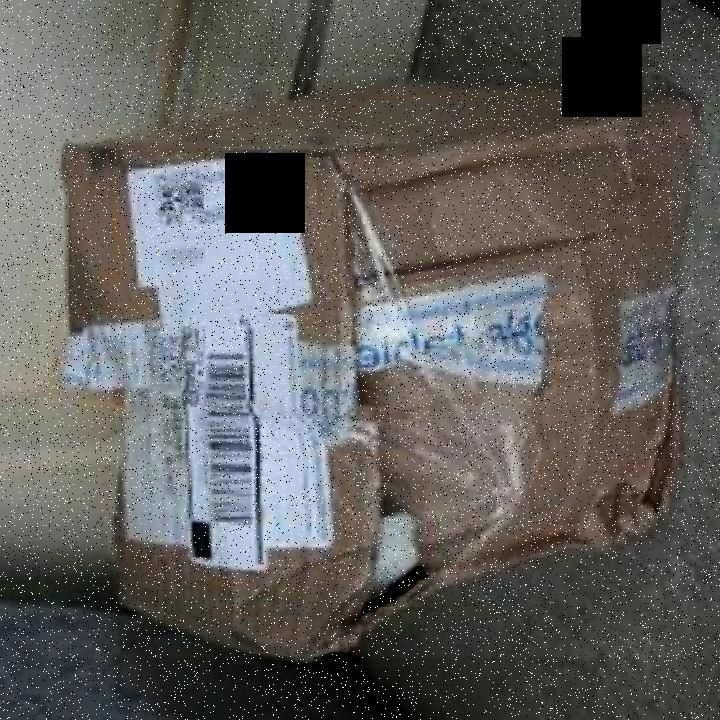box: (40, 68, 694, 660)
